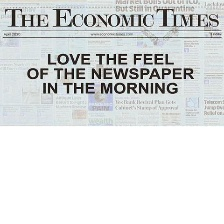news_paper: (0, 0, 224, 129)
